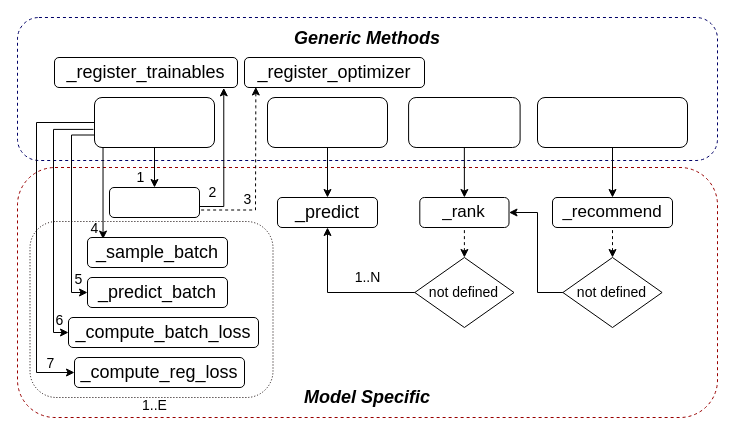
Some shapes in this 735 by 435 pixel diagram are drawn without their labels. Each missing label, with the box of its shape:
_pre_fit: (108, 186, 200, 218)
fit: (94, 96, 214, 148)
predict: (266, 96, 388, 148)
rank: (408, 96, 520, 148)
recommend: (536, 96, 688, 148)
